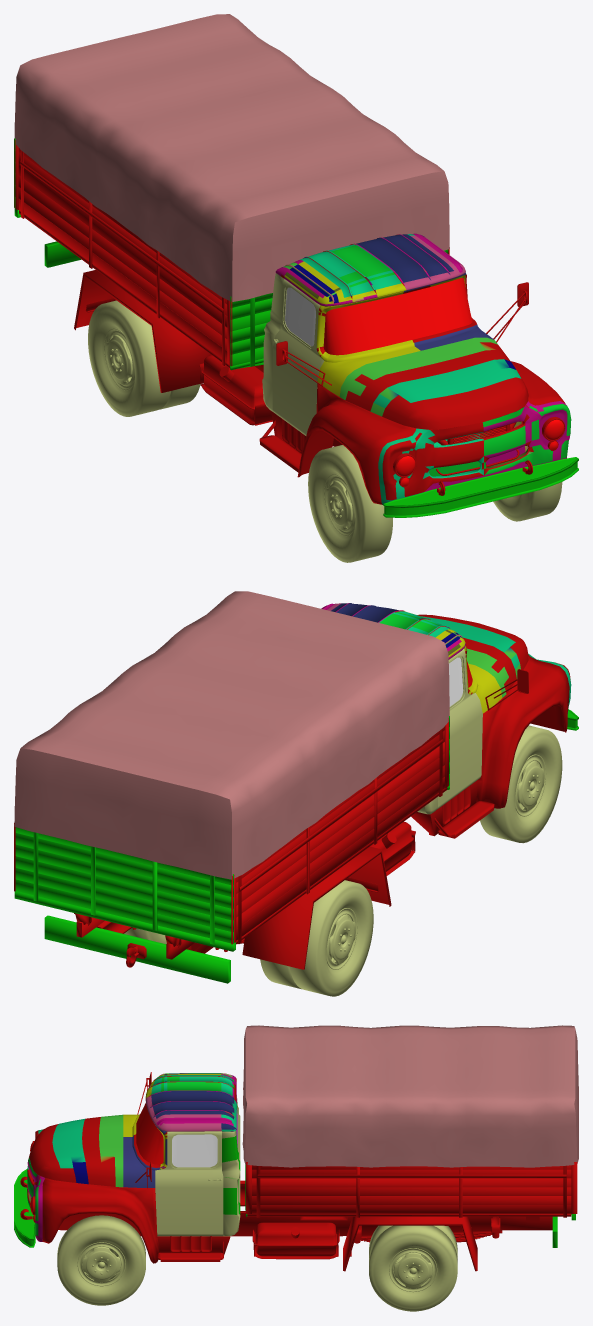
Rendered from ZIL130.fbx.
3 views of the same model, one above another, from view 1: azimuth 30°, elevation 25°; view 2: azimuth 150°, elevation 25°; view 3: azimuth 270°, elevation 25° (orthographic). The views are drawn at different scales.
Visible parts, largest first — view 1: Truck_body, Trailer_Covers, Truck_Wheel_RR, Truck_Wheel_FL, Zil_Door_FL, Truck_Wheel_FR; view 2: Trailer_Covers, Truck_body, Trailer_Door, Truck_Wheel_RR, Truck_Wheel_FL, Zil_Door_FL; view 3: Truck_body, Trailer_Covers, Truck_Wheel_RL, Zil_Door_FR, Truck_Wheel_FR, Trailer_Door.
Part boxes in pixels (x1,y1,x2,y2): Truck_body: [18, 148, 578, 517]; Trailer_Covers: [14, 14, 449, 301]; Truck_Wheel_RR: [88, 300, 200, 416]; Truck_Wheel_FL: [308, 445, 392, 562]; Zil_Door_FL: [272, 279, 324, 435]; Truck_Wheel_FR: [493, 482, 562, 521]; Trailer_Covers: [14, 591, 449, 879]; Truck_body: [44, 603, 578, 983]; Trailer_Door: [14, 823, 236, 951]; Truck_Wheel_RR: [260, 880, 373, 996]; Truck_Wheel_FL: [480, 725, 562, 843]; Zil_Door_FL: [437, 649, 482, 809]; Truck_body: [14, 1072, 571, 1271]; Trailer_Covers: [242, 1025, 578, 1167]; Truck_Wheel_RL: [369, 1225, 457, 1311]; Zil_Door_FR: [155, 1131, 223, 1236]; Truck_Wheel_FR: [57, 1215, 145, 1305]; Trailer_Door: [571, 1162, 577, 1220].
Bounding box in the file's own units: 2.6 × 2.69 × 6.62.
